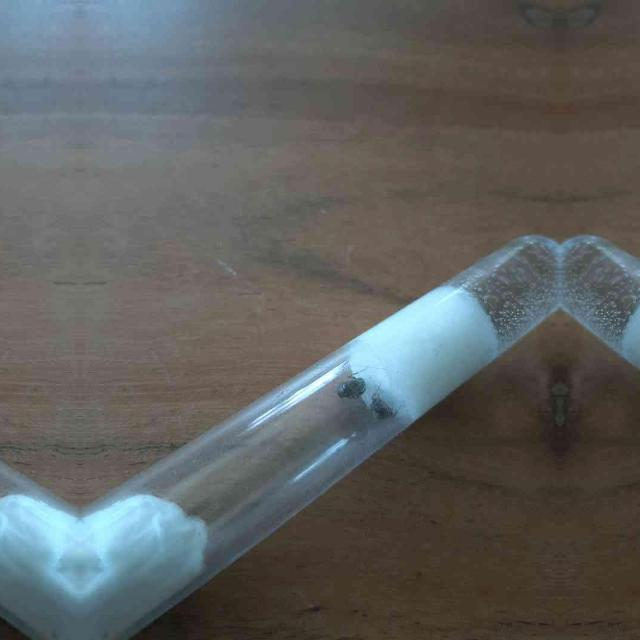Lasius: (366, 383, 406, 429), (328, 364, 366, 408)
